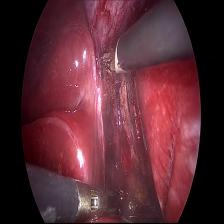Grasper: (74, 178, 124, 224)
Hook: (104, 36, 125, 85)
